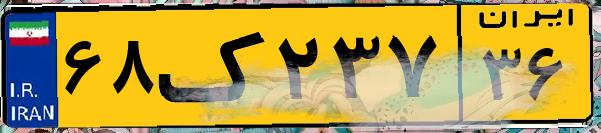2: (270, 28, 330, 110)
3: (330, 28, 385, 110), (475, 38, 525, 113)
6: (57, 26, 110, 100), (525, 38, 570, 115)
7: (385, 28, 445, 110)
8: (110, 28, 158, 98)
ک: (158, 12, 270, 120)
